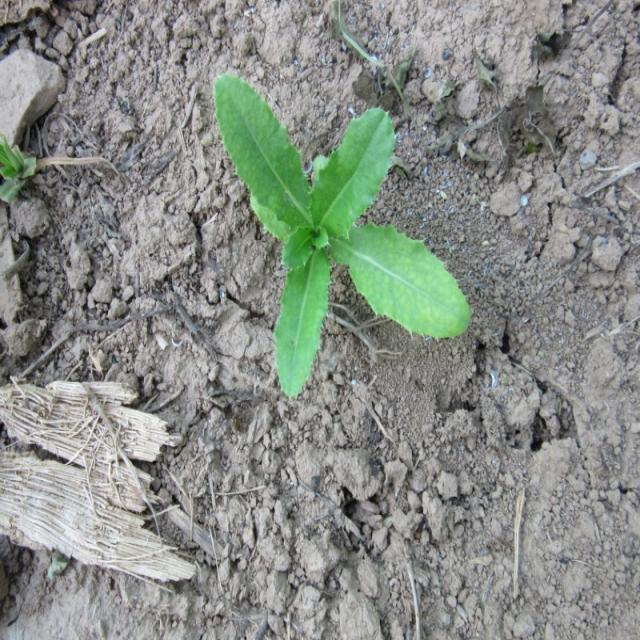cs: (214, 69, 473, 396)
